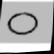no answer: (5, 8, 41, 38)
